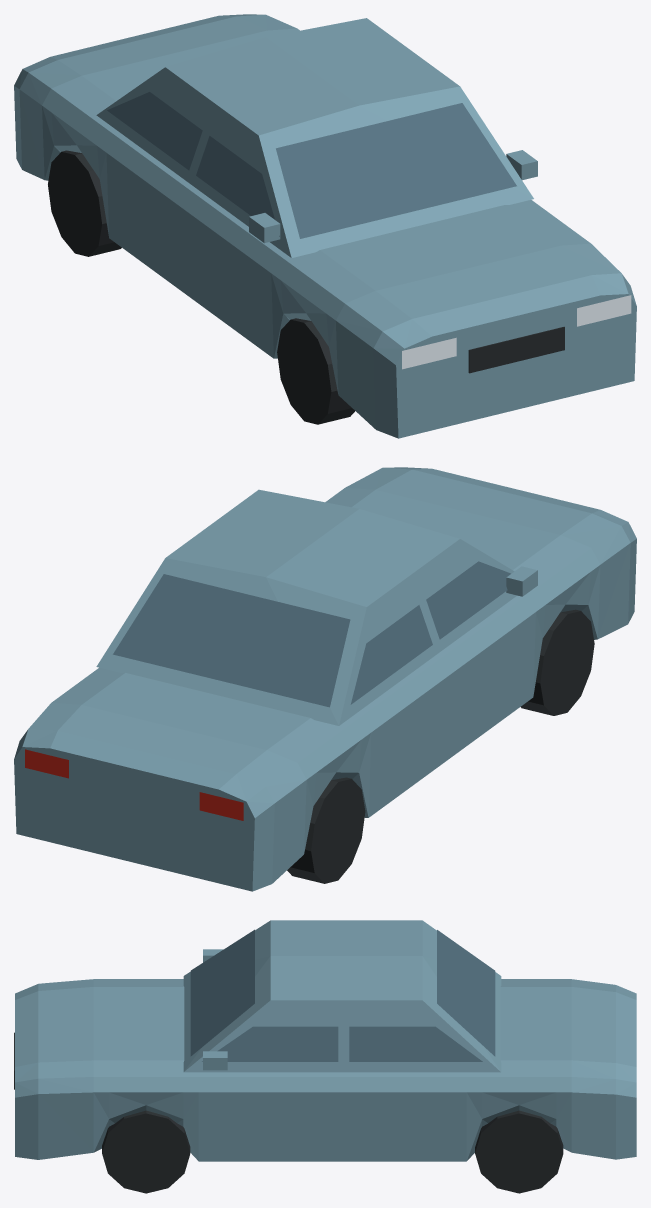
File: traffic-sedan.lod1.glb
The picture shows the model from 3 angles, top to bottom: view 1: azimuth 30°, elevation 25°; view 2: azimuth 150°, elevation 25°; view 3: azimuth 270°, elevation 25°; orthographic projection. The views are drawn at different scales.
Parts seen in each view (by area): view 1: body-shell, glass, wheel-front-right, wheel-rear-right, trim; view 2: body-shell, glass, wheel-rear-right, wheel-front-right; view 3: body-shell, glass, wheel-rear-left, wheel-front-left.
Boxes of the visible parts, x1,y1,x2,y2 form: body-shell: (14, 14, 636, 438); glass: (107, 92, 631, 369); wheel-front-right: (277, 318, 354, 424); wheel-rear-right: (48, 150, 121, 256); trim: (468, 326, 564, 373); body-shell: (14, 467, 636, 891); glass: (25, 561, 510, 820); wheel-rear-right: (287, 777, 365, 883); wheel-front-right: (521, 609, 594, 715); body-shell: (15, 920, 636, 1161); glass: (190, 929, 495, 1061); wheel-rear-left: (475, 1110, 563, 1193); wheel-front-left: (102, 1110, 190, 1193).
Bounding box in the file's own units: 1.86 × 1.48 × 4.51.
